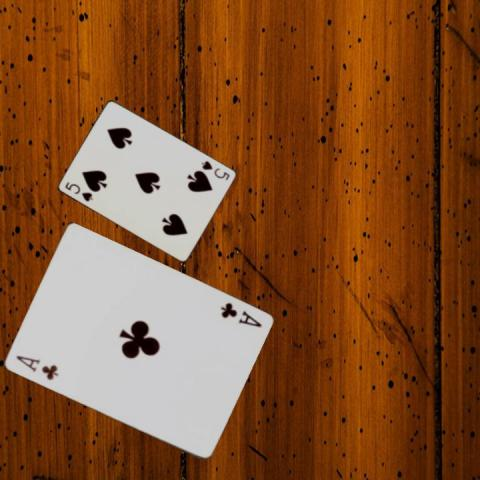5s: (62, 178, 95, 202), (199, 158, 231, 181)
Ac: (12, 353, 60, 382), (216, 299, 262, 329)
